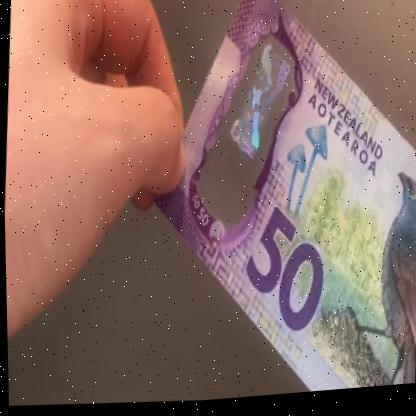50B: (219, 44, 292, 210)
